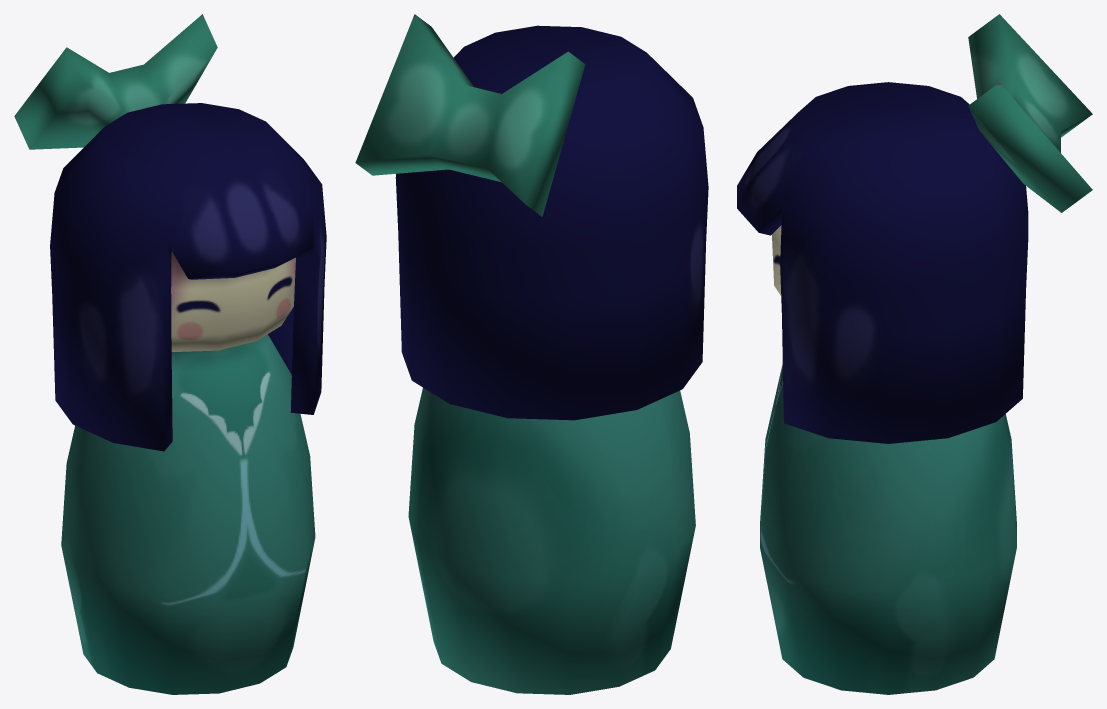
Rendered from Doll2.fbx.
3 views of the same model, side by side, from view 1: azimuth 30°, elevation 25°; view 2: azimuth 150°, elevation 25°; view 3: azimuth 270°, elevation 25° (orthographic). The views are drawn at different scales.
Parts seen in each view (by area): view 1: Doll2; view 2: Doll2; view 3: Doll2.
Part boxes in pixels (box(x1,y1,x2,y2)): Doll2: box(14, 14, 326, 694); Doll2: box(355, 14, 708, 694); Doll2: box(737, 14, 1092, 694).
Size of the model in its own units: 29.32 by 67.74 by 36.38.
Materials: 1 (1 with a texture image).
